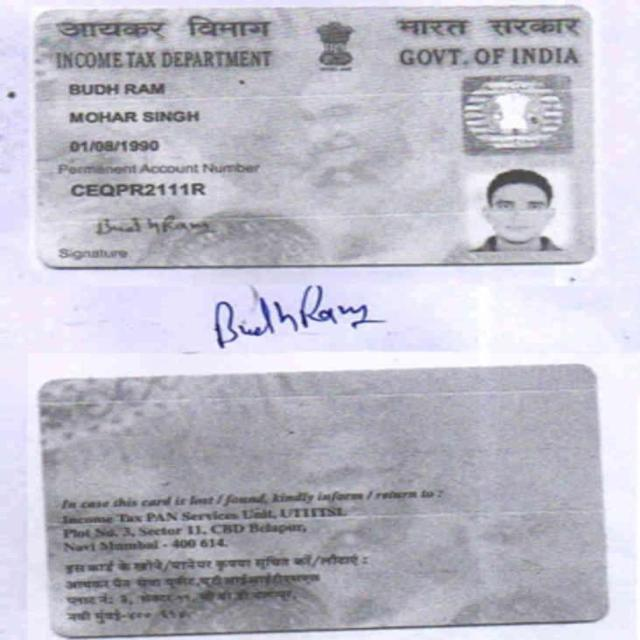pan_card: (38, 367, 599, 640), (35, 9, 594, 268)
